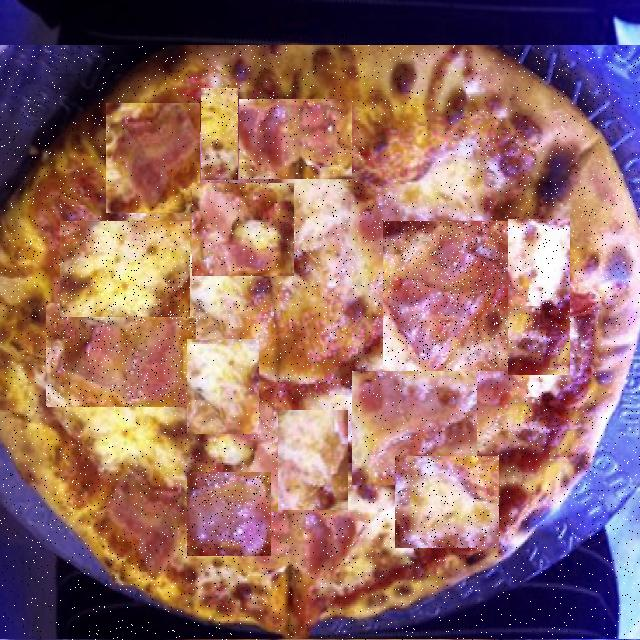Cheese: (61, 221, 190, 317), (508, 219, 570, 375), (395, 456, 499, 548), (278, 410, 348, 510), (187, 339, 259, 434), (364, 116, 434, 192), (201, 88, 238, 180)
Ham: (383, 221, 519, 371), (46, 302, 196, 407), (352, 371, 477, 485), (106, 103, 200, 213), (192, 183, 294, 276), (239, 99, 352, 179), (187, 472, 271, 556)
Pizza: (0, 45, 640, 640)
